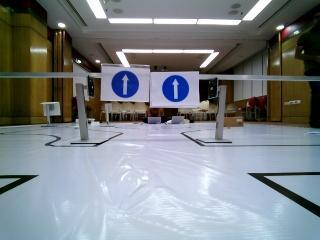straight: (149, 71, 201, 107), (102, 63, 149, 102)
